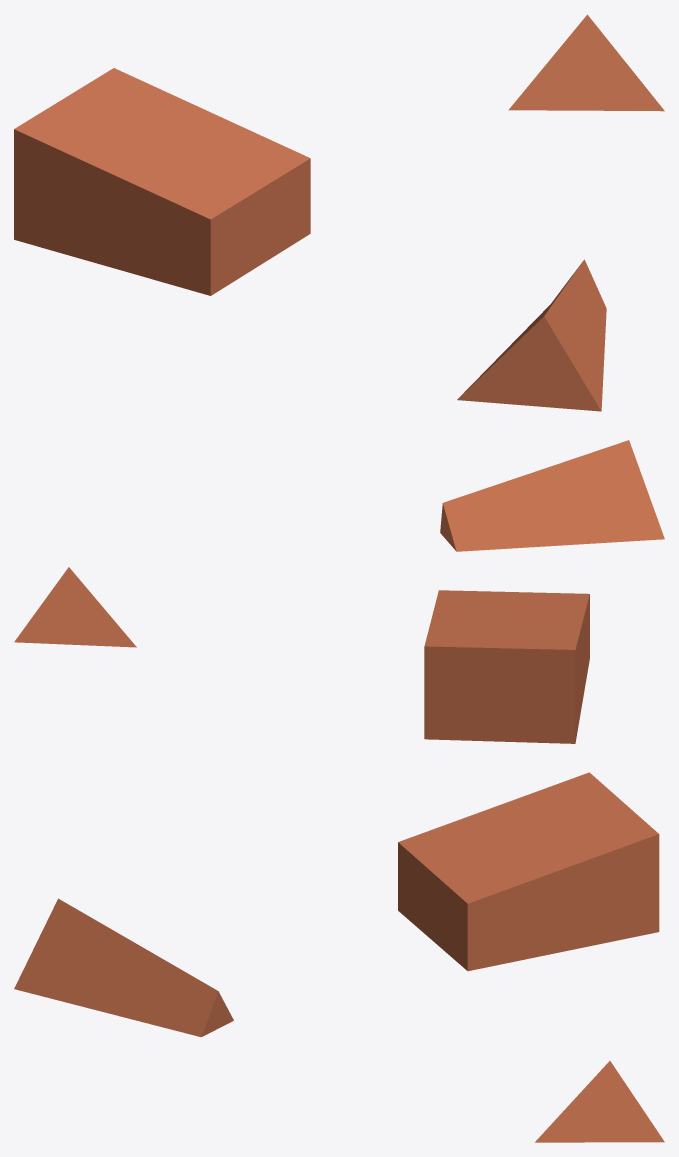
The model's file is Brick_Pile_s_01.fbx.
The picture shows the model from 3 angles, top to bottom: view 1: azimuth 30°, elevation 25°; view 2: azimuth 150°, elevation 25°; view 3: azimuth 270°, elevation 25°; orthographic projection. The views are drawn at different scales.
Visible parts, largest first — view 1: Brick_Pile_s_01; view 2: Brick_Pile_s_01; view 3: Brick_Pile_s_01.
Part boxes in pixels (box(x1,y1,x2,y2)): Brick_Pile_s_01: box(14, 14, 664, 411); Brick_Pile_s_01: box(14, 440, 664, 743); Brick_Pile_s_01: box(14, 772, 664, 1142).
Bounding box in the file's own units: 30.13 × 5.22 × 30.59.
